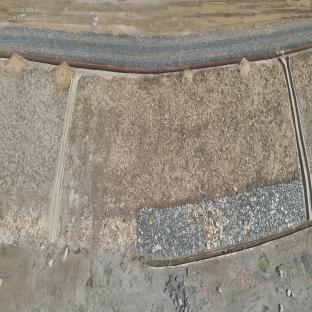rock_toe: (137, 180, 305, 256), (58, 211, 136, 248), (1, 207, 50, 251)
slope_drain: (49, 74, 82, 243), (279, 55, 312, 220)
toe_drain: (106, 219, 312, 271)
